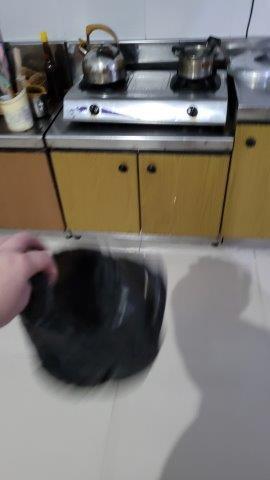plastik: (10, 243, 170, 394)
